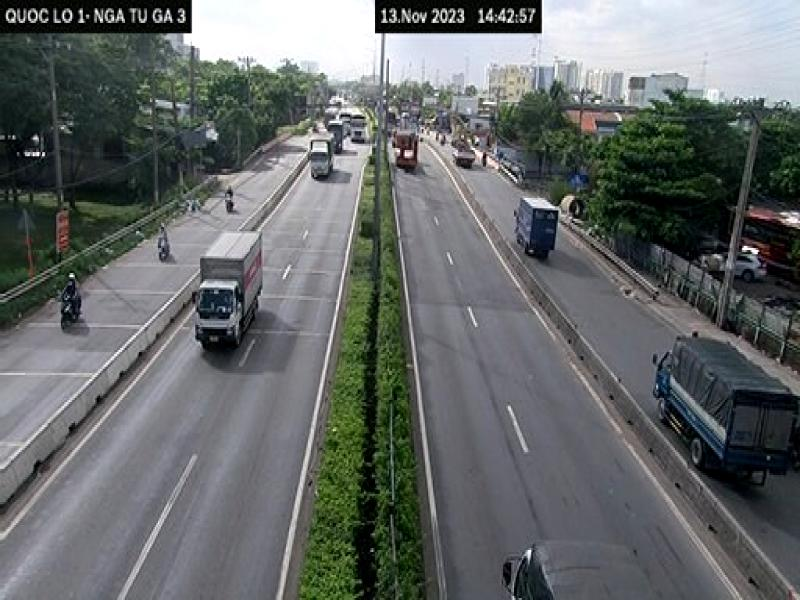truck: (648, 331, 798, 493), (191, 224, 266, 350)
